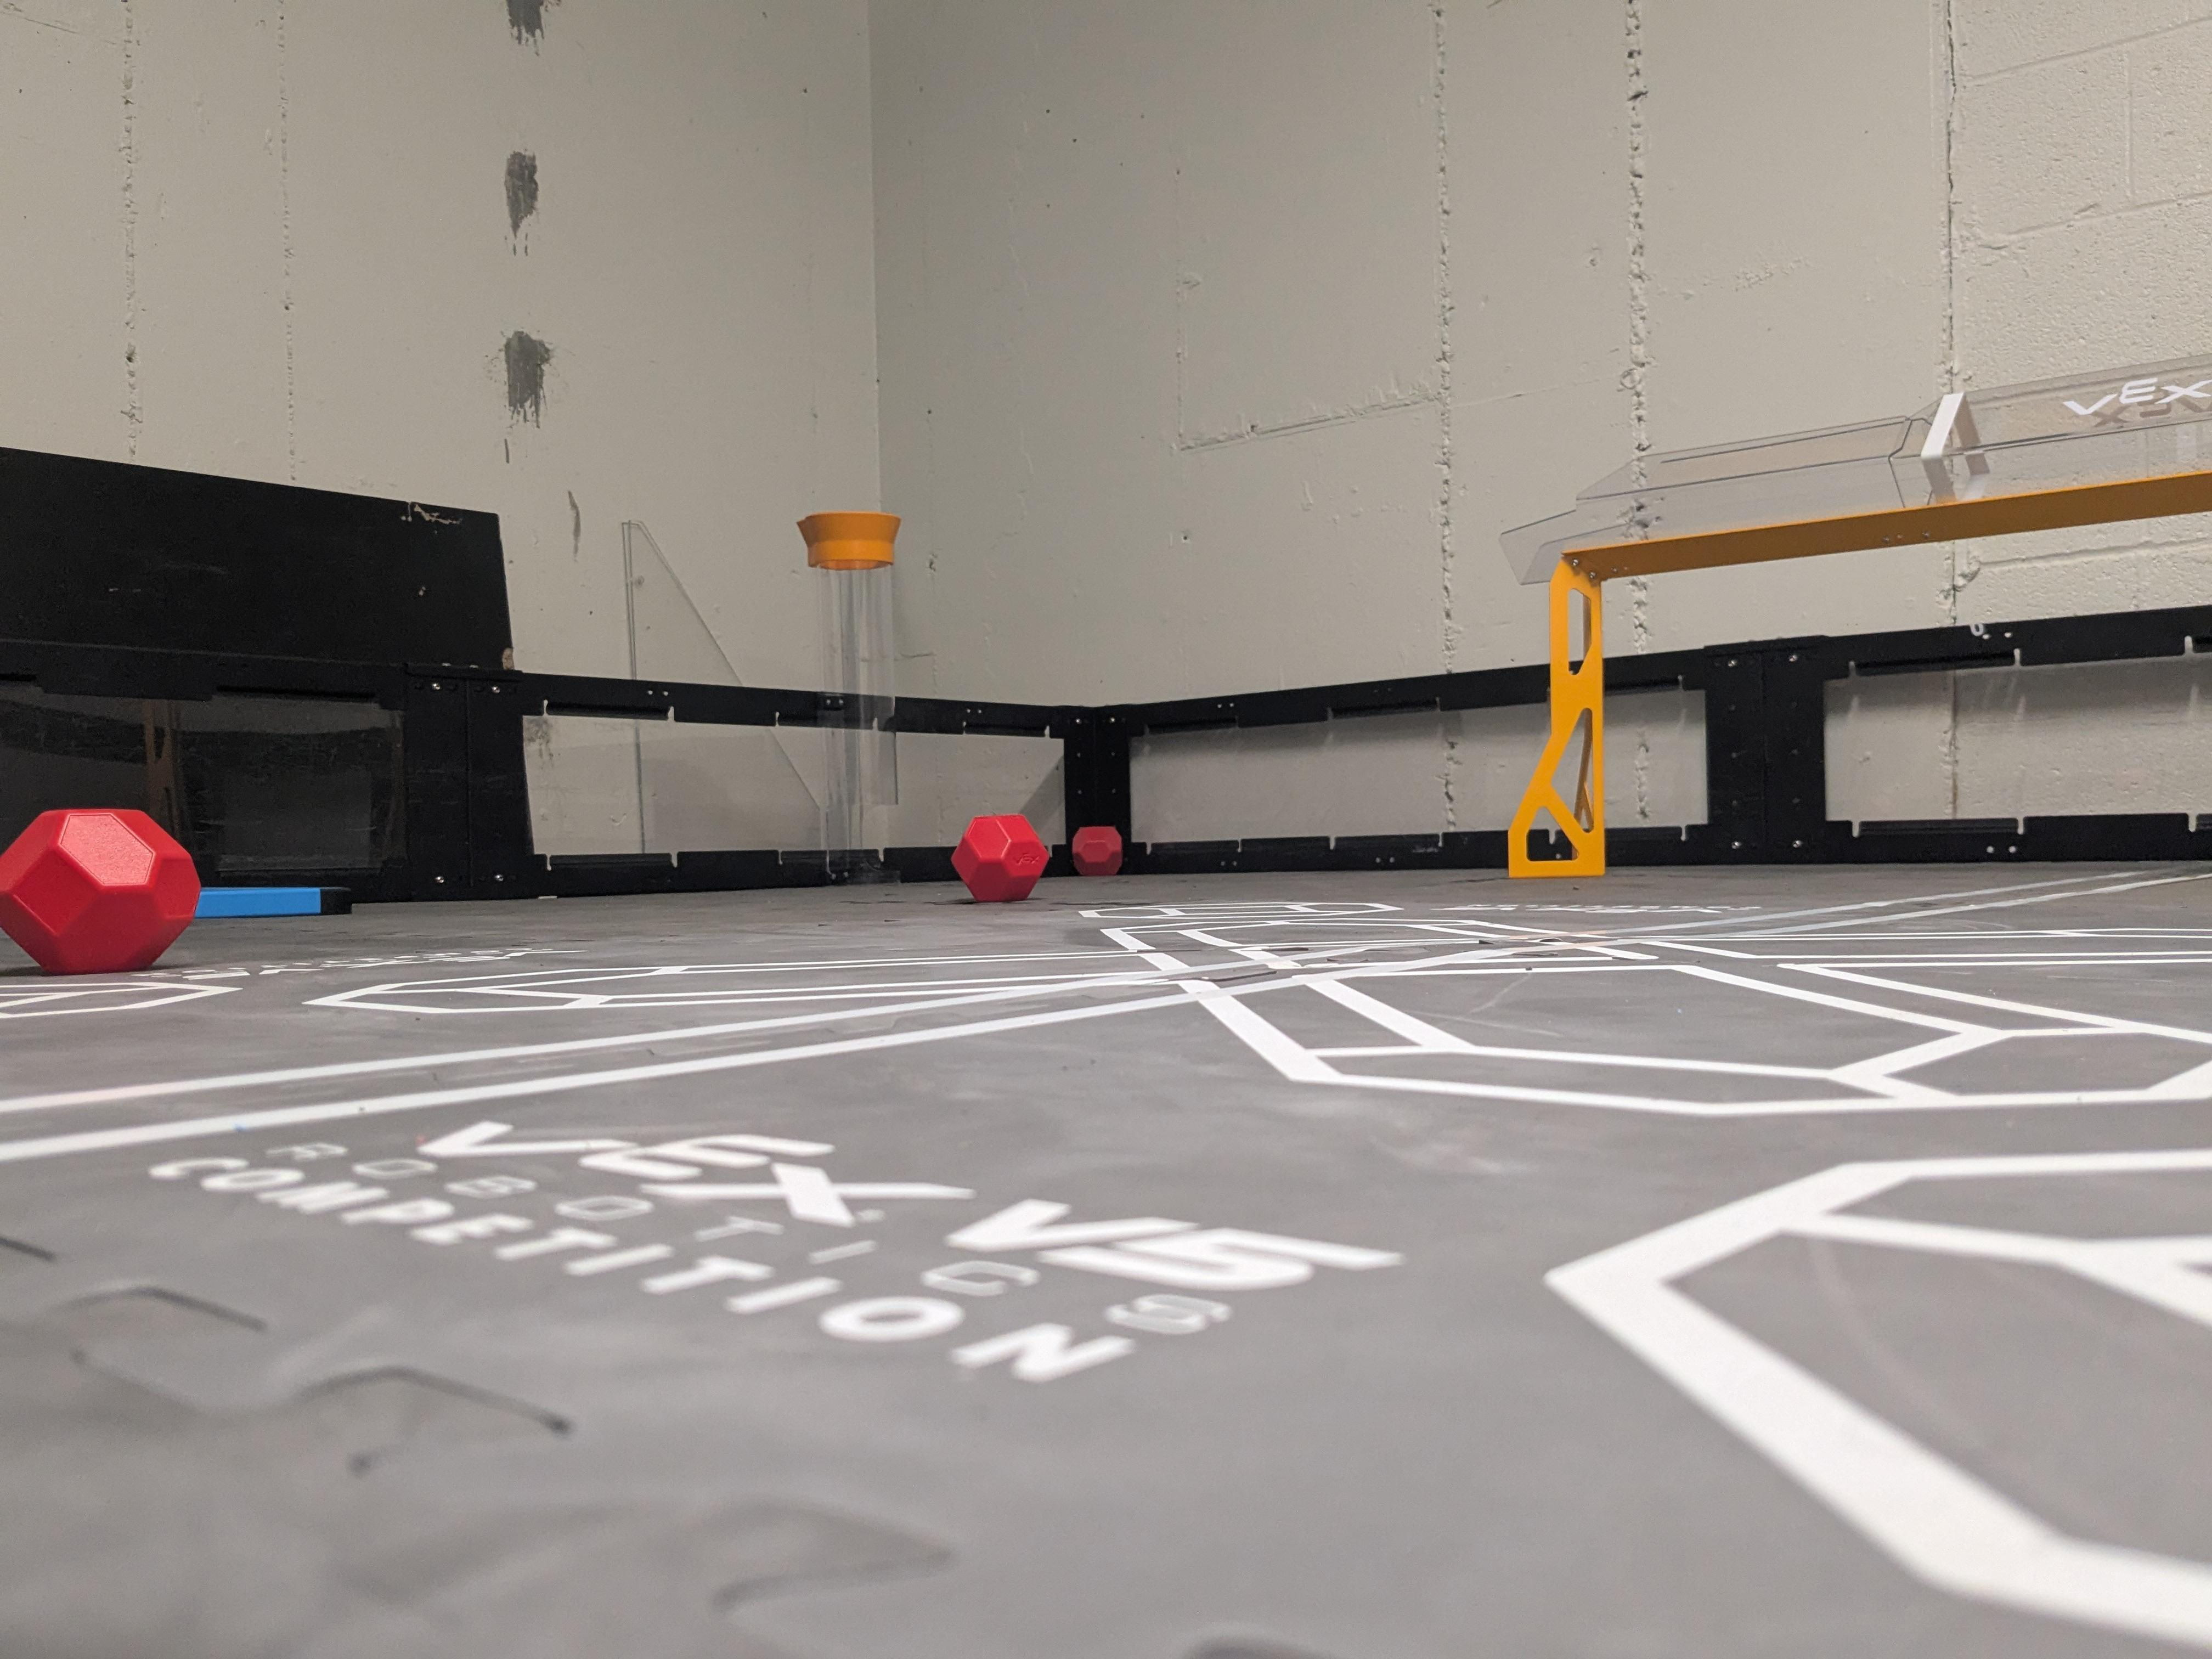Vex-Pieces-RED: (0, 809, 197, 969), (953, 814, 1050, 903), (1071, 826, 1123, 877)
